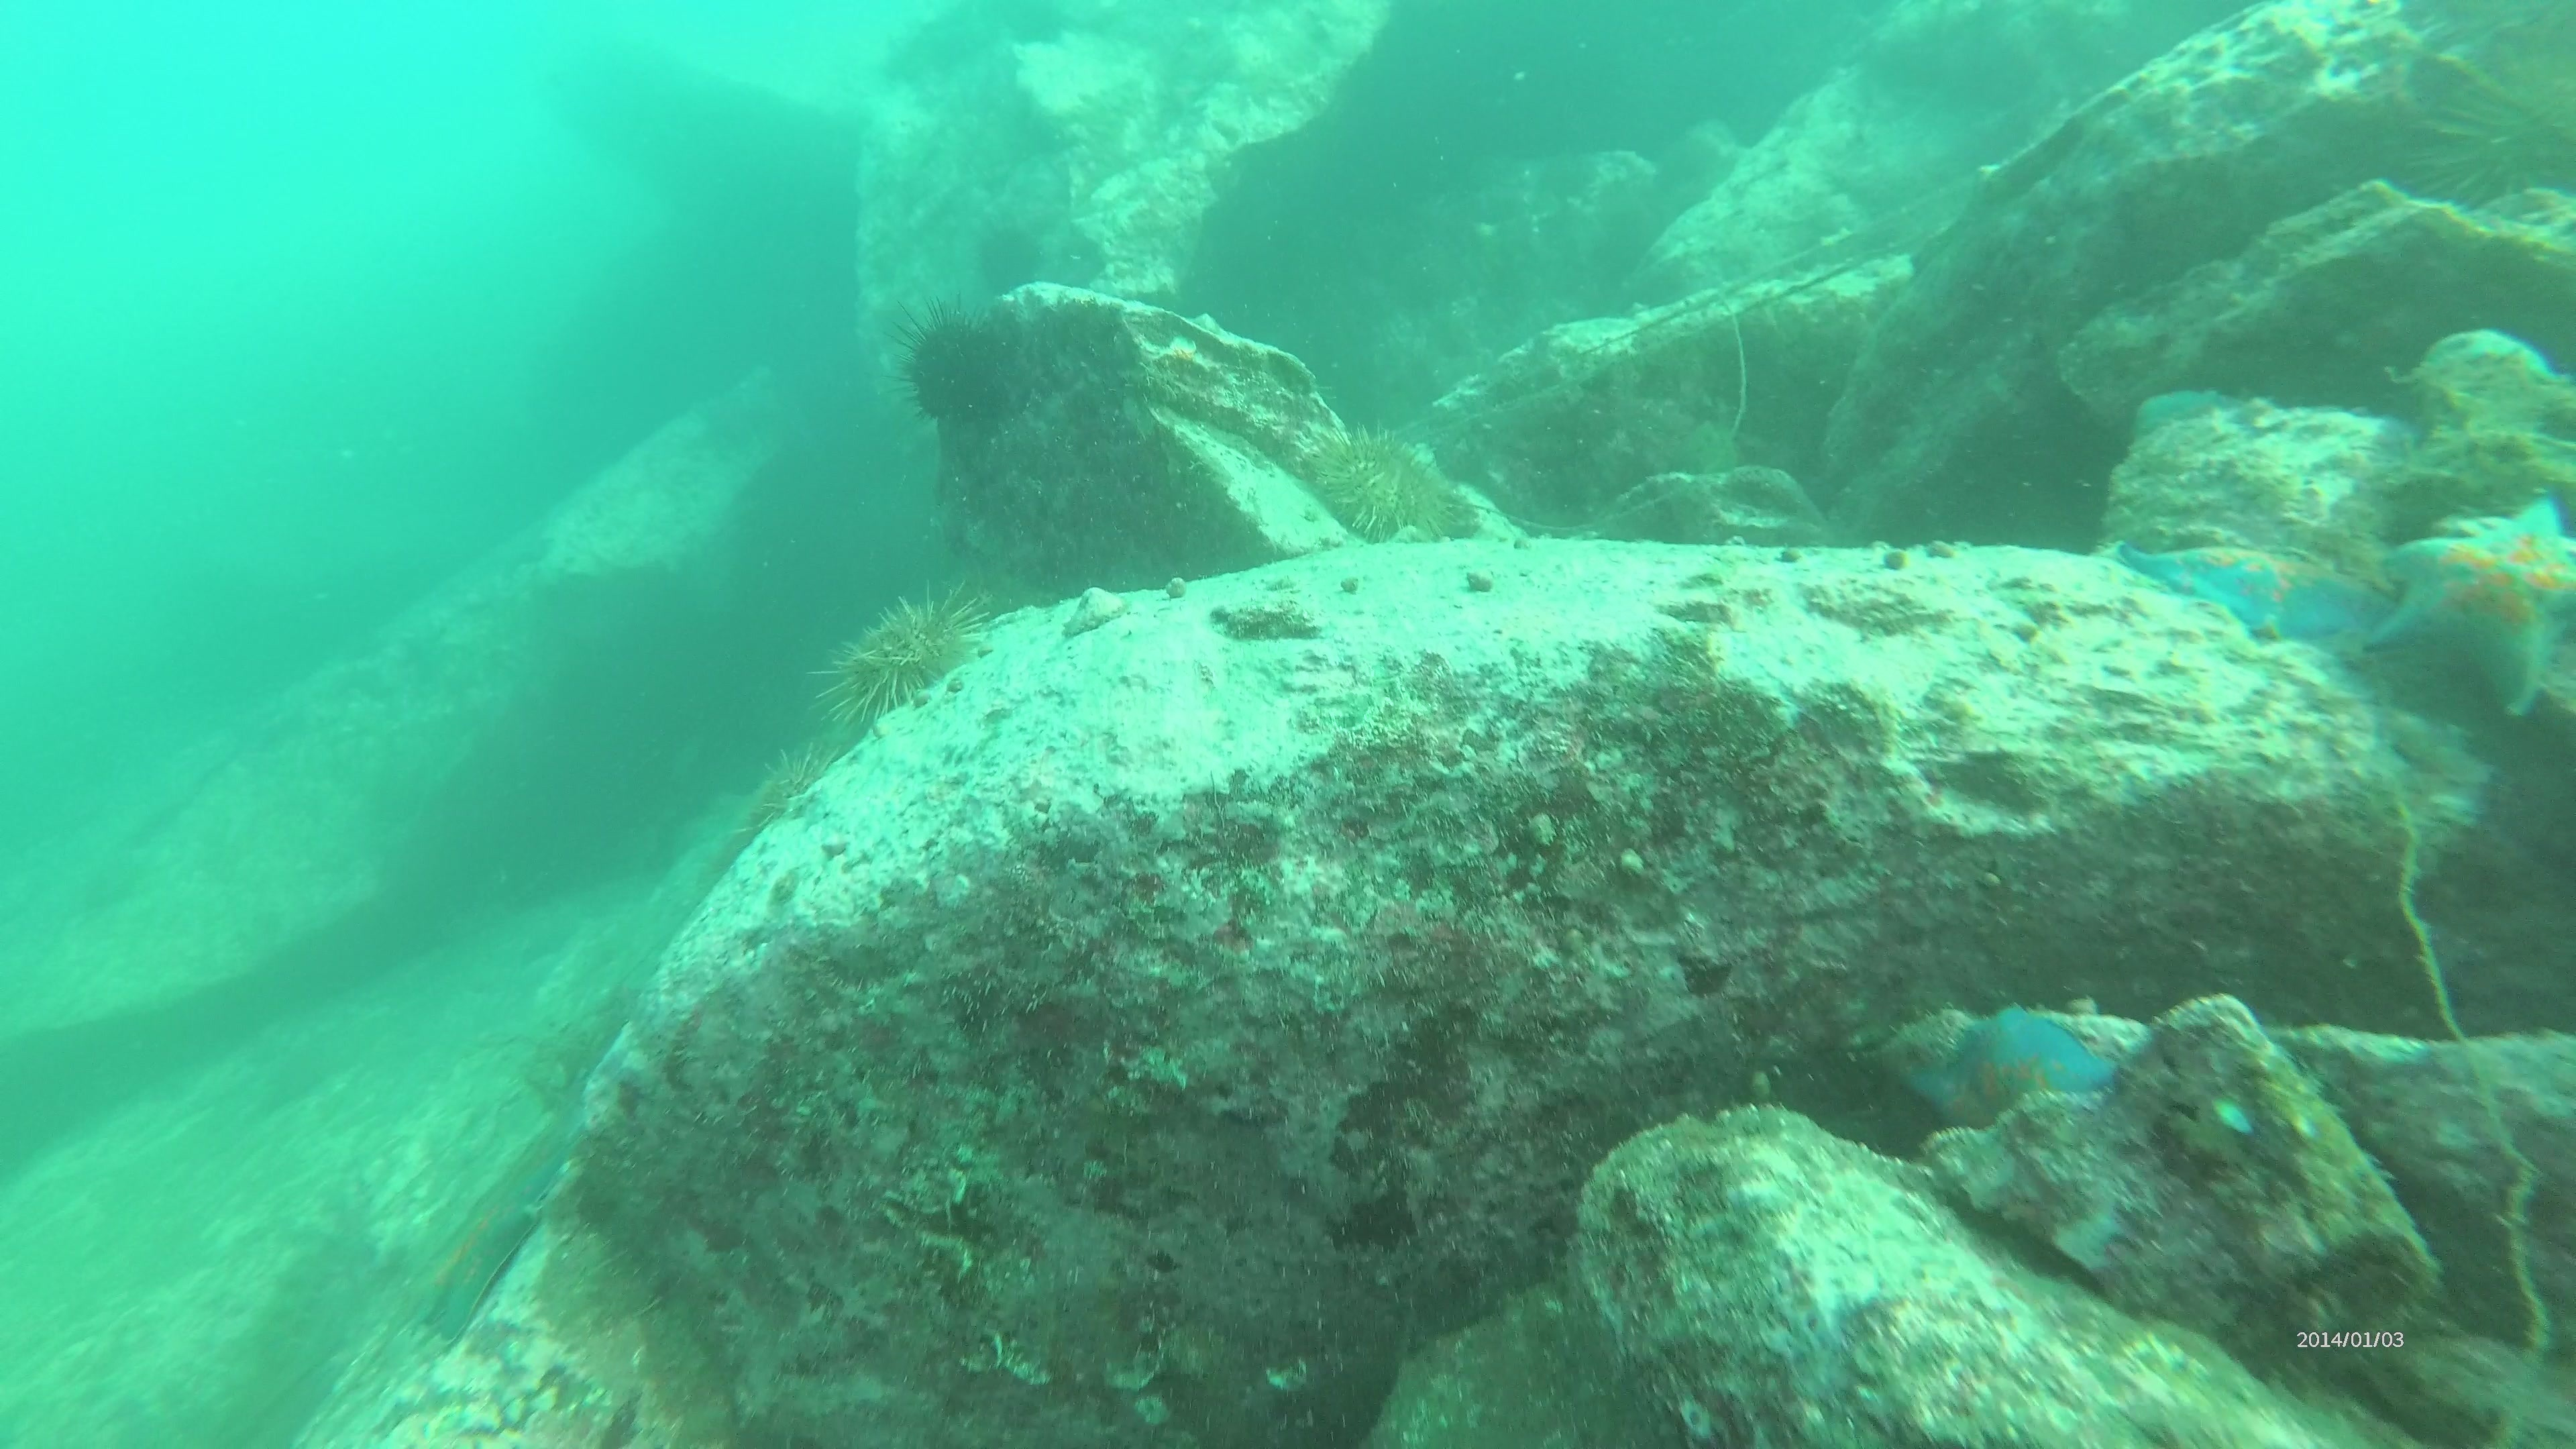echinus: (2420, 30, 2574, 214), (814, 580, 994, 736), (1293, 414, 1472, 550), (892, 299, 1030, 437), (718, 732, 847, 867), (966, 214, 1051, 301)
starfish: (2362, 485, 2576, 727), (396, 1097, 575, 1346), (2109, 527, 2401, 653), (1895, 998, 2134, 1138), (2404, 320, 2571, 412)
